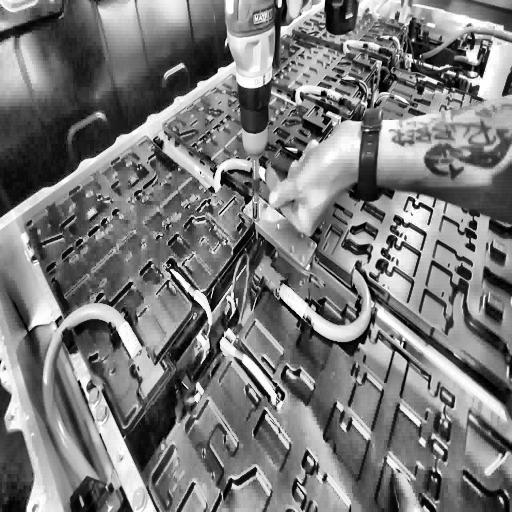high_volt_cable: (40, 302, 143, 490), (260, 243, 375, 348), (418, 15, 512, 75), (210, 157, 277, 214), (296, 83, 357, 115), (342, 37, 388, 58)
low_volt_cable: (162, 257, 275, 417), (343, 66, 415, 114)
